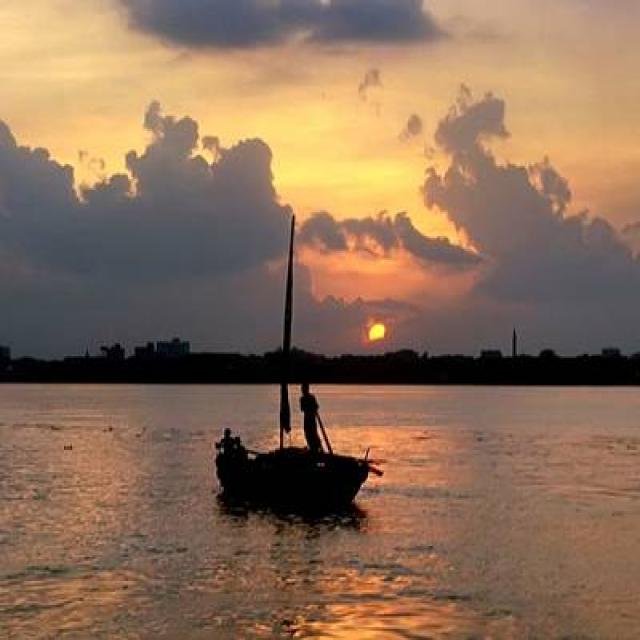Boat: (178, 189, 392, 518)
People: (286, 359, 341, 467)
